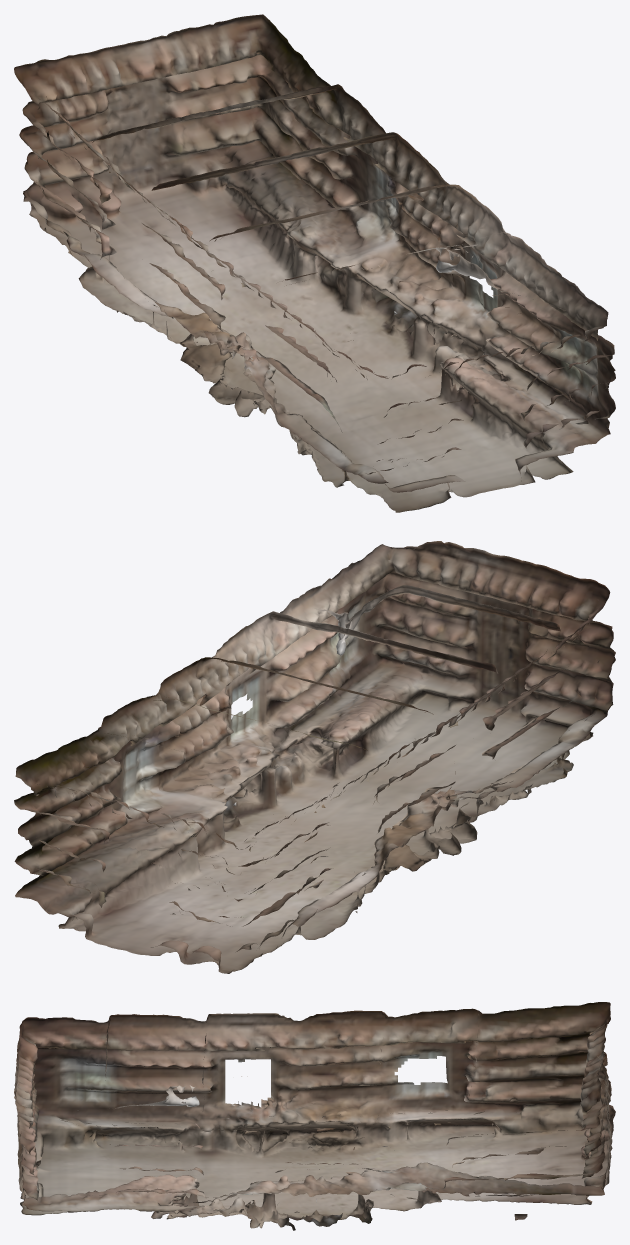
The model's file is Pottery_collider.glb.
3 renders of one model, top to bottom at view 1: azimuth 30°, elevation 25°; view 2: azimuth 150°, elevation 25°; view 3: azimuth 270°, elevation 25°, orthographic. The views are drawn at different scales.
Parts seen in each view (by area): view 1: world; view 2: world; view 3: world.
Part boxes in pixels (x1=…): world: x1=14, y1=14, x2=615, y2=512; world: x1=14, y1=541, x2=615, y2=973; world: x1=14, y1=1002, x2=615, y2=1230.
Bounding box in the file's own units: 3.86 × 2.62 × 9.81.
